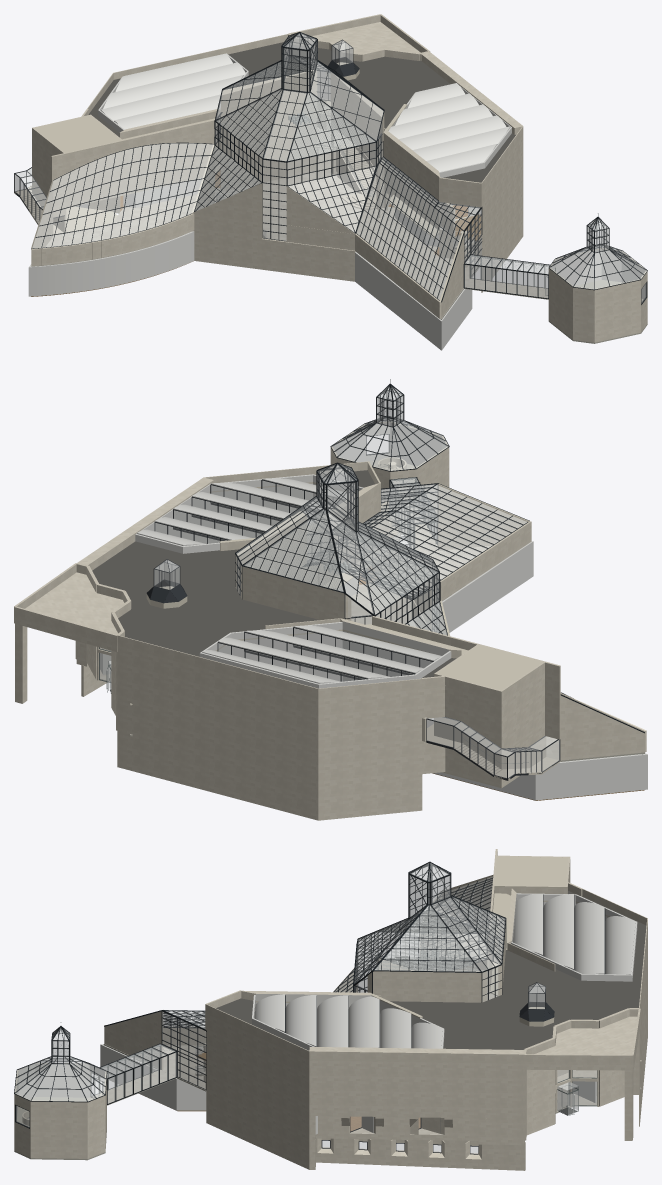
File: building.glb
3 renders of one model, top to bottom at view 1: azimuth 30°, elevation 25°; view 2: azimuth 150°, elevation 25°; view 3: azimuth 270°, elevation 25°, orthographic. The views are drawn at different scales.
Visible parts, largest first — view 1: P10_MAIN_ROOF_FACE_0_GLASS_00_00, R37_GH_EAST_PORTAL_METAL_HEAD, P05_FRONT_0, P05_MAIN_ATRIUM_BASE_3, R99_W_GROUND_GALLERY_ENTRY_WALL, R24_SHELL_E_00, R82_ENTRY_INNER_WALL, P05_MAIN_ROOF_DECK, P05_FLOOR_L00_GH, P07_CANOPY_SLAB_ENVELOPE, R51_SHADE_1_GLASS_00_00, P05_FLOOR_L00_EAST_GARDEN (+20 smaller); view 2: P05_FRONT_0, P10_MAIN_ROOF_FACE_0_GLASS_00_00, R99_W_GROUND_GALLERY_ENTRY_WALL, R37_GH_EAST_PORTAL_METAL_HEAD, P05_MAIN_ROOF_DECK, R24_SHELL_E_00, P05_MAIN_ATRIUM_BASE_3, P07_CANOPY_SLAB_ENVELOPE, R14_INNER_WALL_A, R51_SHADE_1_GLASS_00_00, R82_ENTRY_INNER_WALL, P05_WEST_END (+9 smaller); view 3: P05_FRONT_0, P10_MAIN_ROOF_FACE_0_GLASS_00_00, R27_CONTINUOUS_HEAD, R24_SHELL_E_00, R37_GH_EAST_PORTAL_METAL_HEAD, P05_MAIN_ROOF_DECK, P07_CANOPY_SLAB_ENVELOPE, R99_W_GROUND_GALLERY_ENTRY_WALL, R94_EAST_HIGH_WALL_JOIN, P05_MAIN_ATRIUM_BASE_3, R51_SHADE_1_GLASS_00_00, R111_W_GALLERY_APPROACH_SOFFIT (+12 smaller).
Part boxes in pixels (<box>): P10_MAIN_ROOF_FACE_0_GLASS_00_00: <box>14,33,646,302</box>; R37_GH_EAST_PORTAL_METAL_HEAD: <box>31,32,647,302</box>; P05_FRONT_0: <box>87,34,647,342</box>; P05_MAIN_ATRIUM_BASE_3: <box>119,70,440,234</box>; R99_W_GROUND_GALLERY_ENTRY_WALL: <box>28,53,645,350</box>; R24_SHELL_E_00: <box>100,53,510,252</box>; R82_ENTRY_INNER_WALL: <box>51,119,214,232</box>; P05_MAIN_ROOF_DECK: <box>88,42,515,182</box>; P05_FLOOR_L00_GH: <box>31,144,647,343</box>; P07_CANOPY_SLAB_ENVELOPE: <box>288,14,430,61</box>; R51_SHADE_1_GLASS_00_00: <box>217,58,374,160</box>; P05_FLOOR_L00_EAST_GARDEN: <box>325,117,643,319</box>; P05_FRONT_0: <box>117,447,529,820</box>; P10_MAIN_ROOF_FACE_0_GLASS_00_00: <box>107,386,559,778</box>; R99_W_GROUND_GALLERY_ENTRY_WALL: <box>100,422,647,800</box>; R37_GH_EAST_PORTAL_METAL_HEAD: <box>154,383,644,733</box>; P05_MAIN_ROOF_DECK: <box>92,470,456,677</box>; R24_SHELL_E_00: <box>137,478,639,762</box>; P05_MAIN_ATRIUM_BASE_3: <box>235,483,461,658</box>; P07_CANOPY_SLAB_ENVELOPE: <box>14,562,131,730</box>; R14_INNER_WALL_A: <box>421,673,528,786</box>; R51_SHADE_1_GLASS_00_00: <box>245,503,436,613</box>; R82_ENTRY_INNER_WALL: <box>372,616,560,767</box>; P05_WEST_END: <box>560,693,646,760</box>; P05_FRONT_0: <box>14,888,647,1169</box>; P10_MAIN_ROOF_FACE_0_GLASS_00_00: <box>15,863,578,1153</box>; R27_CONTINUOUS_HEAD: <box>309,1047,525,1145</box>; R24_SHELL_E_00: <box>254,893,635,1048</box>; R37_GH_EAST_PORTAL_METAL_HEAD: <box>14,861,605,1104</box>; P05_MAIN_ROOF_DECK: <box>216,891,646,1049</box>; P07_CANOPY_SLAB_ENVELOPE: <box>523,1008,640,1140</box>; R99_W_GROUND_GALLERY_ENTRY_WALL: <box>16,893,637,1134</box>; R94_EAST_HIGH_WALL_JOIN: <box>205,991,525,1170</box>; P05_MAIN_ATRIUM_BASE_3: <box>241,888,516,1002</box>; R51_SHADE_1_GLASS_00_00: <box>357,899,504,975</box>; R111_W_GALLERY_APPROACH_SOFFIT: <box>489,856,568,1026</box>.
Bounding box in the file's own units: 80.81 × 35.94 × 93.32.
79 materials, 36 textured.
